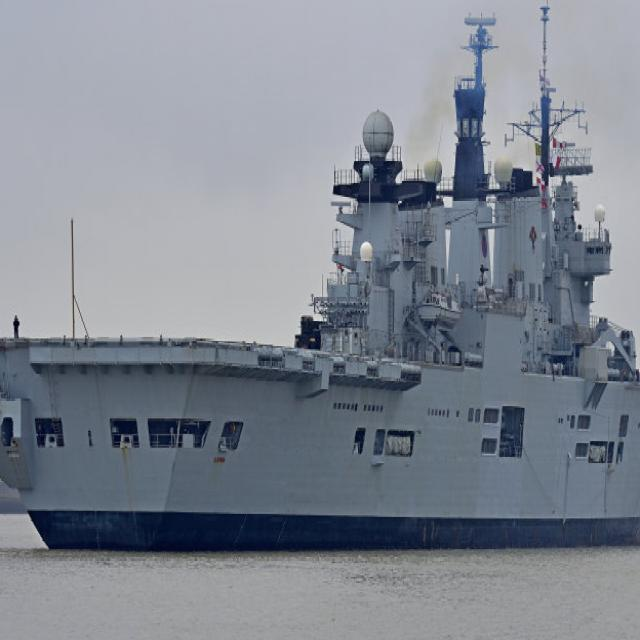Portanaves: (1, 1, 640, 564)
